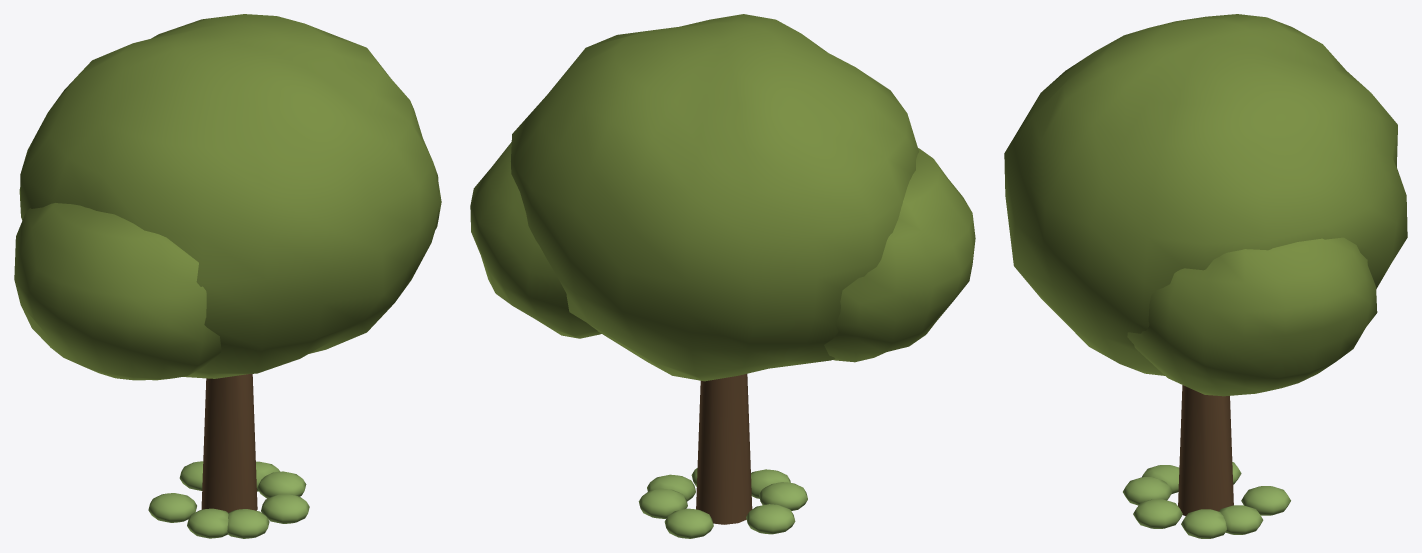
Rendered from tree_olive.glb.
3 views of the same model, side by side, from view 1: azimuth 30°, elevation 25°; view 2: azimuth 150°, elevation 25°; view 3: azimuth 270°, elevation 25° (orthographic).
Visible parts, largest first — view 1: tree_olive; view 2: tree_olive; view 3: tree_olive.
Part boxes in pixels (x1,y1,x2,y2): tree_olive: (14,14,441,538); tree_olive: (470,14,975,538); tree_olive: (1004,14,1407,538).
Size of the model in its own units: 1.79 by 1.87 by 1.45.
